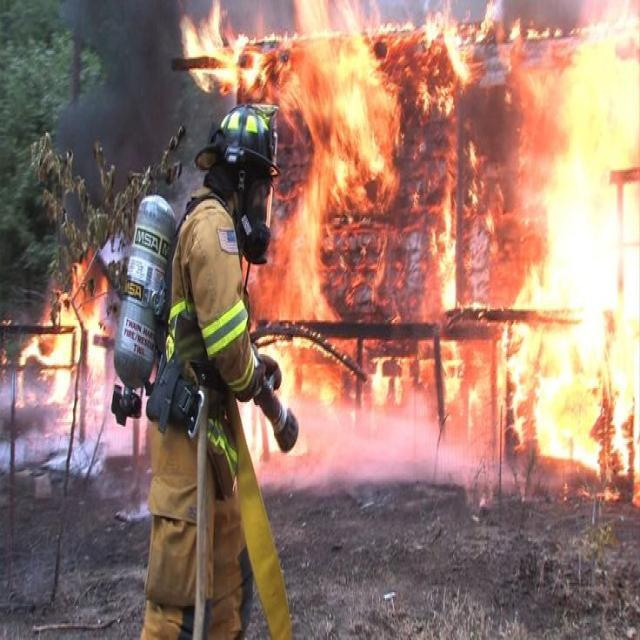Fire: (490, 0, 640, 479), (286, 0, 412, 206), (236, 156, 352, 342), (20, 242, 106, 430), (170, 0, 276, 107), (231, 328, 312, 457), (433, 185, 464, 312)
